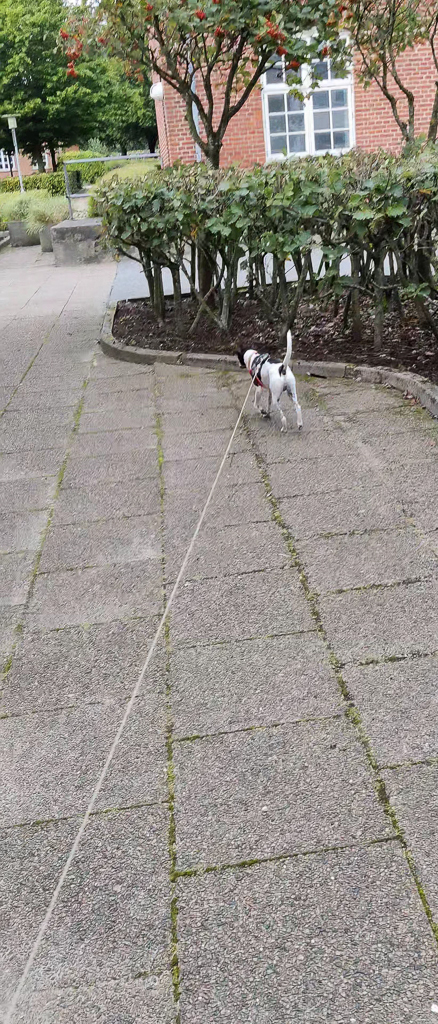Dog: (229, 324, 316, 439)
